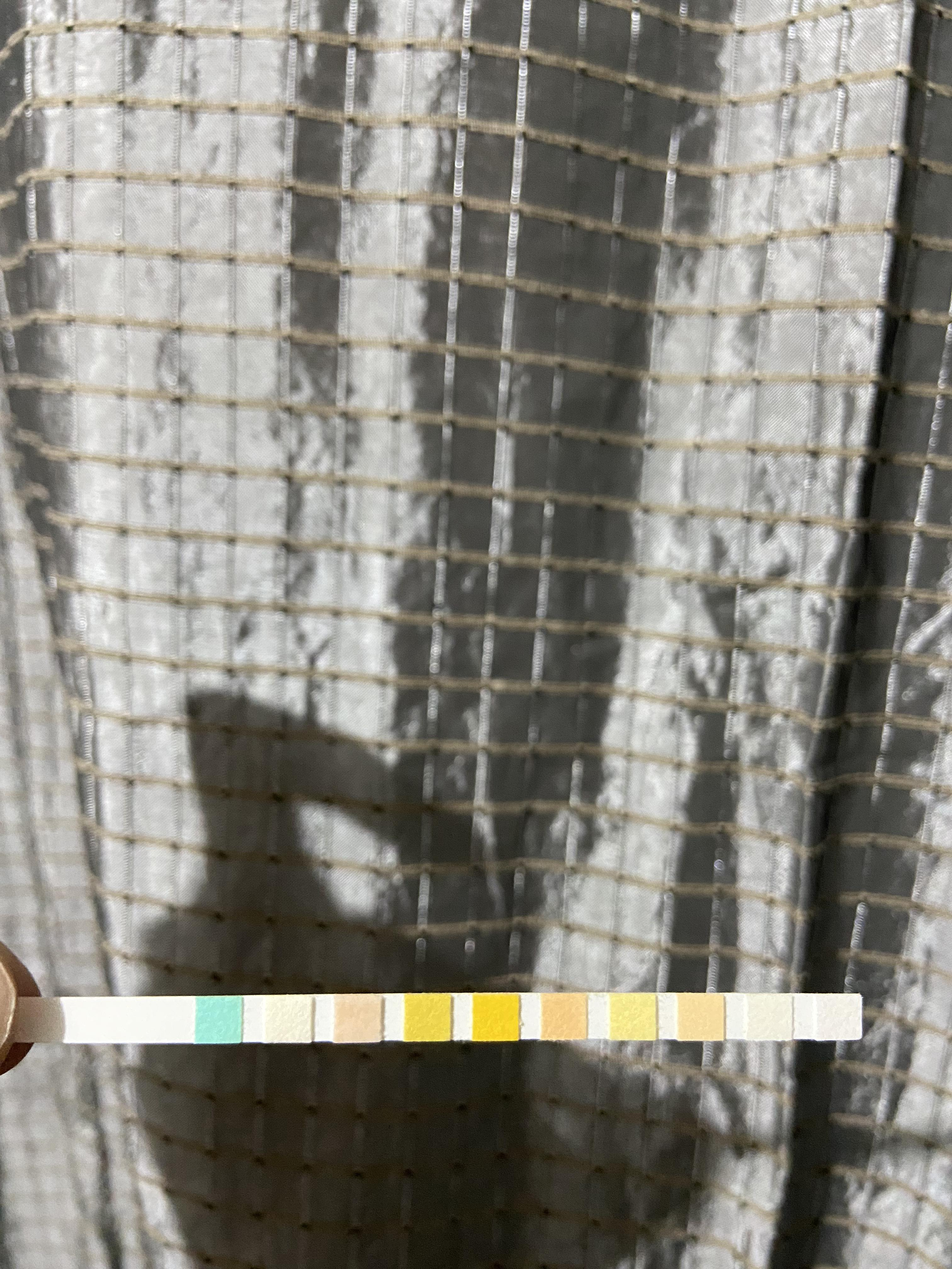Bilirubin: (266, 995, 312, 1042)
Blood: (474, 994, 520, 1041)
Glucose: (195, 996, 244, 1044)
Ketone: (333, 994, 383, 1042)
Leukocytes: (817, 994, 863, 1041)
Nitrite: (746, 995, 793, 1039)
Protein: (609, 993, 658, 1040)
SpGravity: (404, 994, 452, 1043)
Urobilinogen: (677, 993, 725, 1041)
pH: (541, 993, 587, 1040)
strip: (32, 992, 862, 1043)
